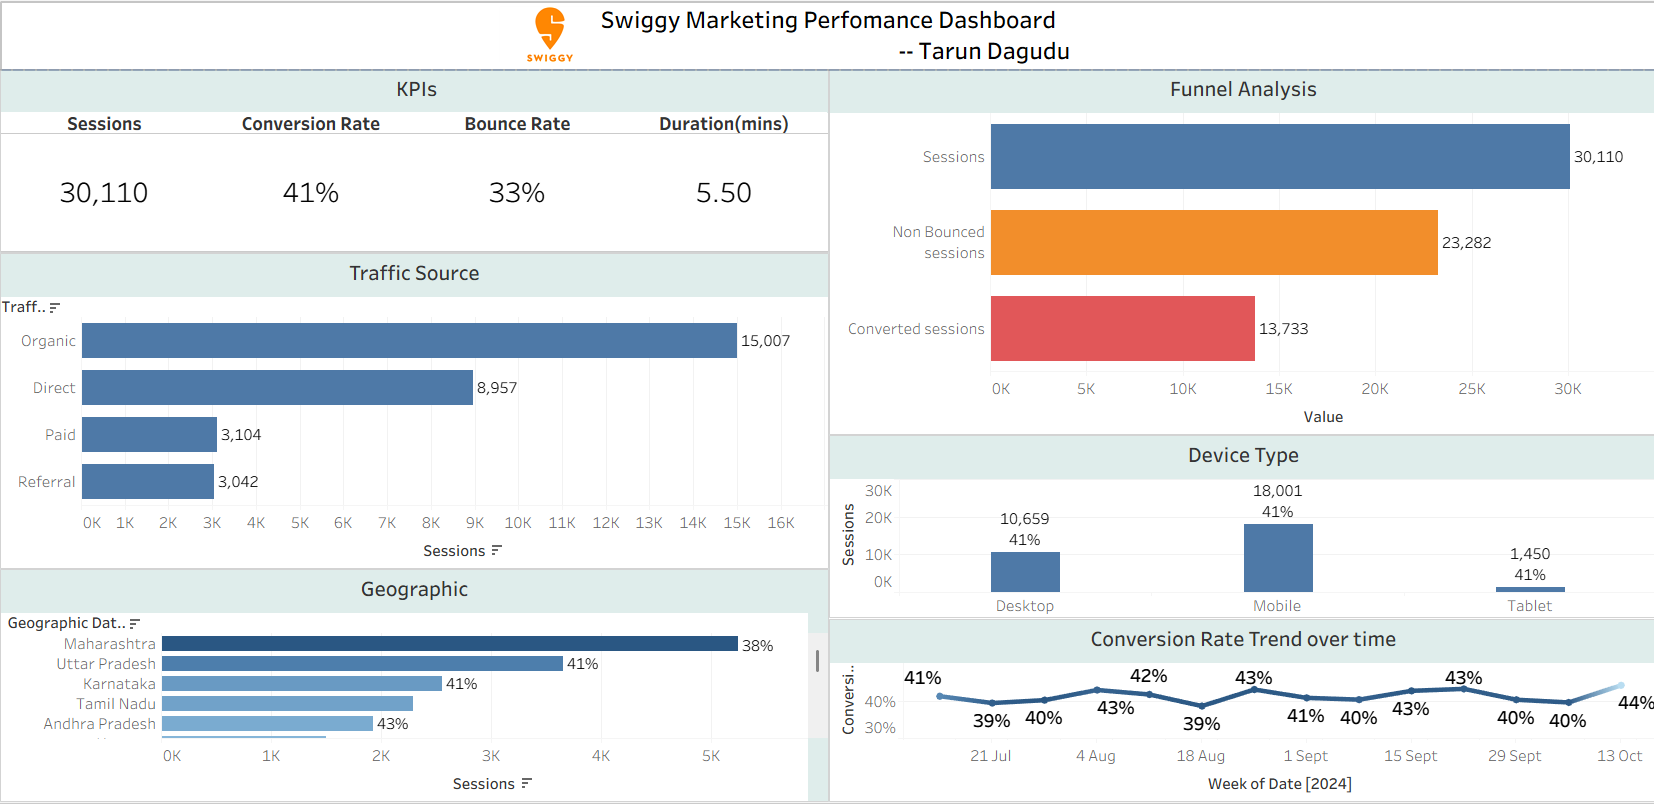

This screenshot's page, from the dashboard's own definition file:
{"tool":"tableau","page":{"name":"Dashboard","canvas":[1000,1000],"units":"permille","ordinal":0},"visuals":[{"type":"text","box":[0,0,1000,84.9]},{"type":"image","param":"Image/Swiggy-logo.jpg","box":[301.2,6.2,61,93.6]},{"type":"worksheet","title":"KPIs","mark":"Automatic","box":[0,84.9,500,230.2]},{"type":"worksheet","title":"Funnel Analysis","mark":"Automatic","box":[500,84.9,500,457.5]},{"type":"worksheet","title":"Traffic Source","mark":"Automatic","rows":["Traffic Source"],"cols":["Sessions"],"box":[0,315.1,500,394]},{"type":"worksheet","title":"Device Type","mark":"Automatic","rows":["Sessions"],"cols":["Device Type"],"box":[500,542.4,500,228.8]},{"type":"worksheet","title":"Geographic","mark":"Automatic","rows":["Geographic Data - Country"],"cols":["Sessions"],"box":[0,709.1,500,290.9]},{"type":"worksheet","title":"Conversion Rate Trend over time","mark":"Automatic","rows":["Calculation_1544865114685440"],"cols":["Date"],"box":[500,771.1,500,228.9]}]}

Visuals, with their boxes on the dashboard's canvas, which has no fixed pixel size, in thousandths of its width and height (x1, y1, x2, y2). These are canvas units, not pixel positions in the 1654x804 screenshot, which may show the page scaled, cropped or inside an application window:
text: x1=0 y1=0 x2=1000 y2=85
image: x1=301 y1=6 x2=362 y2=100
"KPIs" worksheet: x1=0 y1=85 x2=500 y2=315
"Funnel Analysis" worksheet: x1=500 y1=85 x2=1000 y2=542
"Traffic Source" worksheet: x1=0 y1=315 x2=500 y2=709
"Device Type" worksheet: x1=500 y1=542 x2=1000 y2=771
"Geographic" worksheet: x1=0 y1=709 x2=500 y2=1000
"Conversion Rate Trend over time" worksheet: x1=500 y1=771 x2=1000 y2=1000
